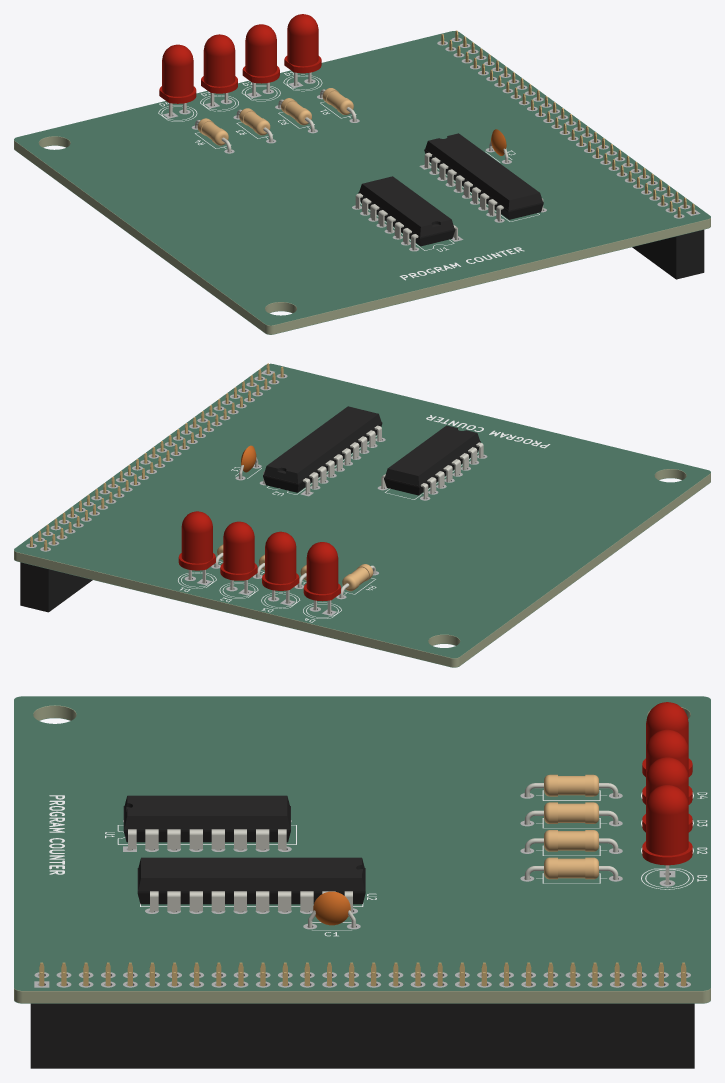
Rendered from board-view.glb.
3 renders of one model, top to bottom at view 1: azimuth 30°, elevation 25°; view 2: azimuth 150°, elevation 25°; view 3: azimuth 270°, elevation 25°, orthographic. The views are drawn at different scales.
Parts seen in each view (by area): view 1: =>[0:1:1:17], =>[0:1:1:3] (×4), =>[0:1:1:19], =>[0:1:1:9], =>[0:1:1:11], =>[0:1:1:7], =>[0:1:1:14], =>[0:1:1:5] (×4), =>[0:1:1:15], =>[0:1:1:18]; view 2: =>[0:1:1:17], =>[0:1:1:3] (×4), =>[0:1:1:19], =>[0:1:1:9], =>[0:1:1:11], =>[0:1:1:7], =>[0:1:1:14], =>[0:1:1:15], =>[0:1:1:18], =>[0:1:1:5]; view 3: =>[0:1:1:17], =>[0:1:1:11], =>[0:1:1:9], =>[0:1:1:19], =>[0:1:1:7], =>[0:1:1:3] (×4), =>[0:1:1:5] (×4), =>[0:1:1:14], =>[0:1:1:15], =>[0:1:1:13], =>[0:1:1:18].
Part boxes in pixels (x1,y1,x2,y2): =>[0:1:1:17]: (14, 31, 710, 325); =>[0:1:1:3] (×4): (159, 14, 321, 116); =>[0:1:1:19]: (14, 42, 710, 334); =>[0:1:1:9]: (424, 133, 543, 221); =>[0:1:1:11]: (441, 30, 704, 279); =>[0:1:1:7]: (355, 176, 457, 250); =>[0:1:1:14]: (163, 37, 700, 251); =>[0:1:1:5] (×4): (195, 88, 356, 152); =>[0:1:1:15]: (158, 71, 539, 280); =>[0:1:1:18]: (14, 145, 710, 334); =>[0:1:1:17]: (14, 363, 710, 658); =>[0:1:1:3] (×4): (178, 511, 340, 613); =>[0:1:1:19]: (14, 377, 710, 667); =>[0:1:1:9]: (263, 406, 382, 494); =>[0:1:1:11]: (20, 363, 283, 612); =>[0:1:1:7]: (381, 425, 483, 499); =>[0:1:1:14]: (26, 369, 487, 615); =>[0:1:1:15]: (178, 415, 550, 622); =>[0:1:1:18]: (14, 478, 710, 667); =>[0:1:1:5]: (339, 564, 375, 597); =>[0:1:1:17]: (14, 696, 710, 990); =>[0:1:1:11]: (30, 962, 694, 1068); =>[0:1:1:9]: (137, 857, 365, 912); =>[0:1:1:19]: (14, 705, 710, 1003); =>[0:1:1:7]: (123, 795, 290, 850); =>[0:1:1:3] (×4): (642, 702, 692, 884); =>[0:1:1:5] (×4): (524, 774, 618, 879); =>[0:1:1:14]: (34, 793, 690, 987); =>[0:1:1:15]: (49, 790, 707, 936); =>[0:1:1:13]: (308, 891, 355, 927); =>[0:1:1:18]: (14, 717, 710, 1003).
Size of the model in its own units: 0.08 by 0.0217 by 0.08.
